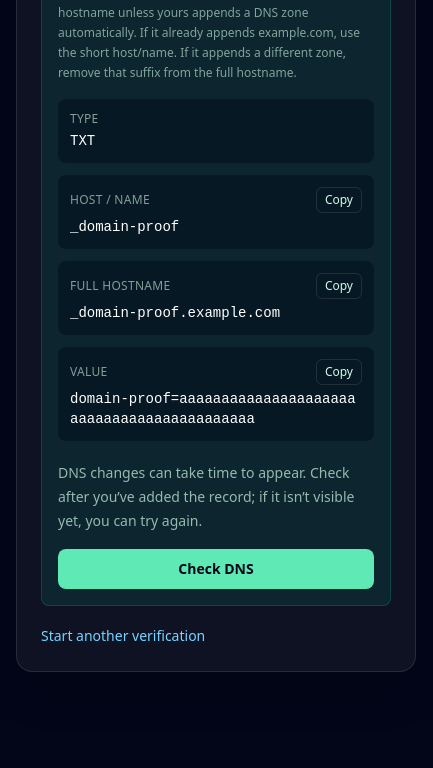
Scenario: App › explains when the TXT record is not visible yet and allows retry
This screenshot has width=433, height=768.
(page scrolled)
Click the button "Check DNS": (216, 569) [58,549,374,589]
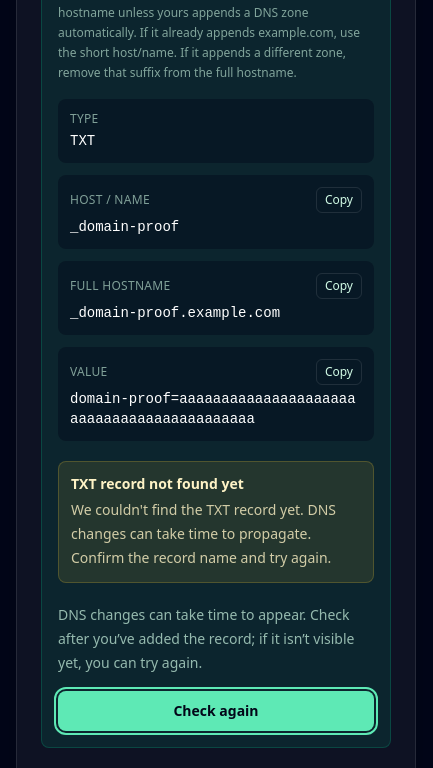
Now the message named "DNS check result" shows "TXT record not found yet", box [71,474,244,493]
Now the text "DNS changes can take time to propagate" is shown, box [71,500,336,567]
Now the button "Check again" is shown, box [58,691,374,731]
